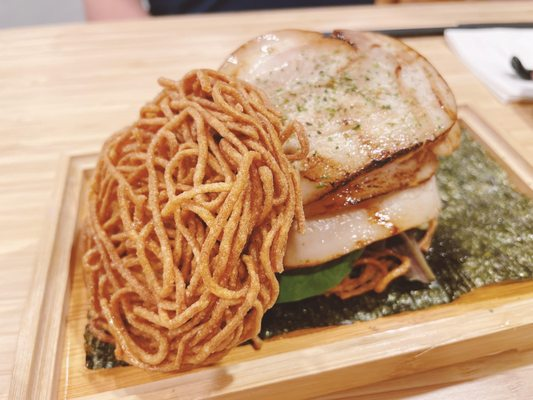soup: (82, 25, 472, 364), (216, 28, 465, 314)
